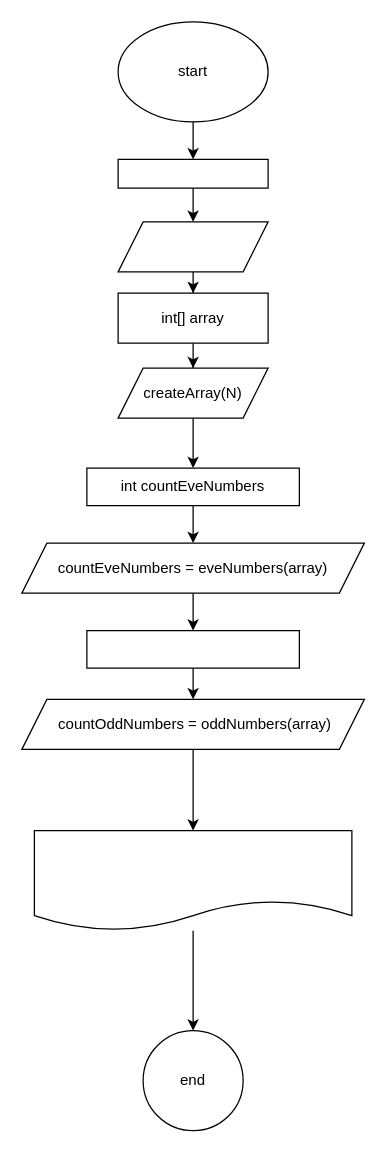
Image size: 386x1153. Some labels were removed from this diagram. Each missing label, with the centre of its shape:
"int countOddNumbers" goes at [192,648].
"int N" goes at [192,173].
"N = N array" goes at [192,246].
"printArrayEveOdd(countEveNumbers, countOddNumbers, array);" goes at [192,880].
